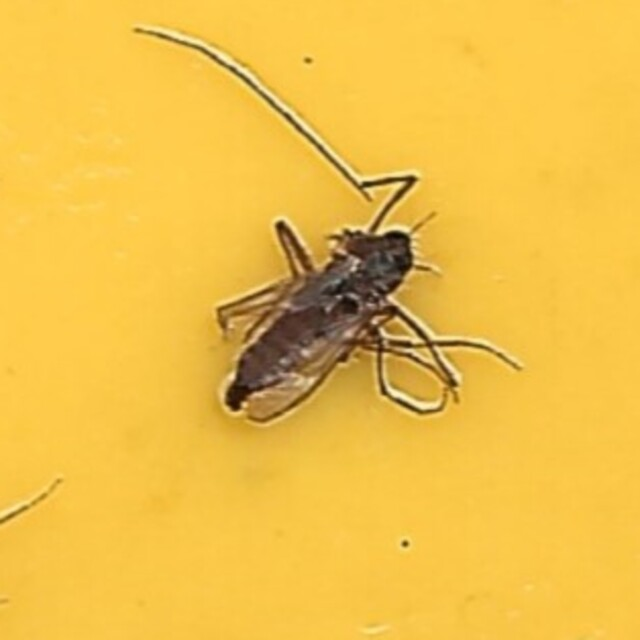Nematocera: (204, 204, 436, 436)
